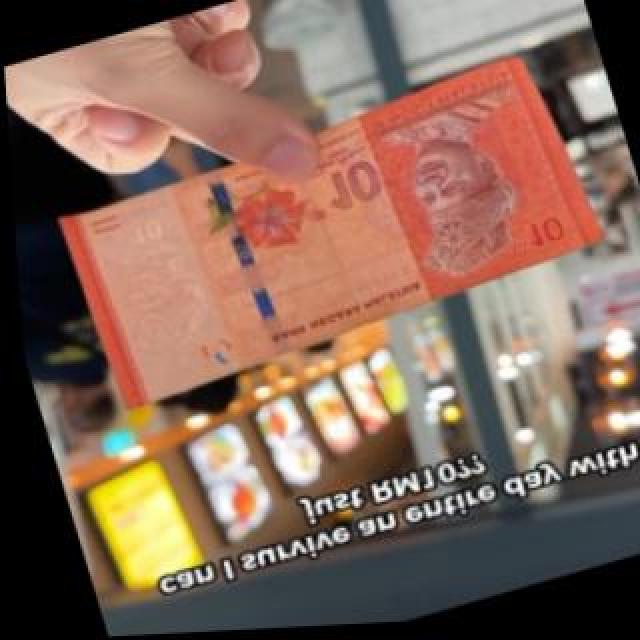10 Ringgit: (34, 40, 621, 419)
